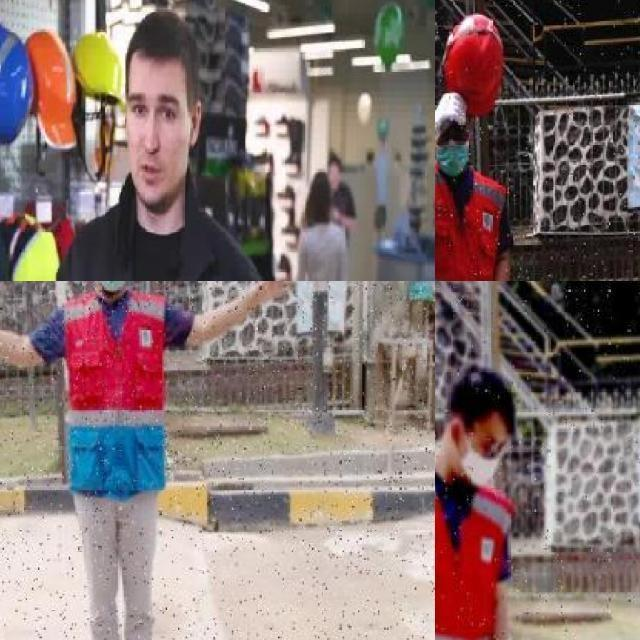apron: (435, 94, 471, 141)
